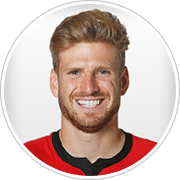smile: (73, 98, 106, 110)
